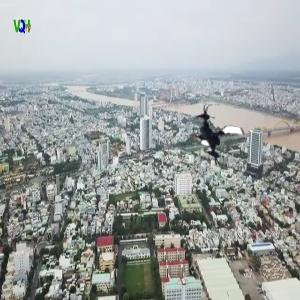drone: (185, 105, 249, 169)
